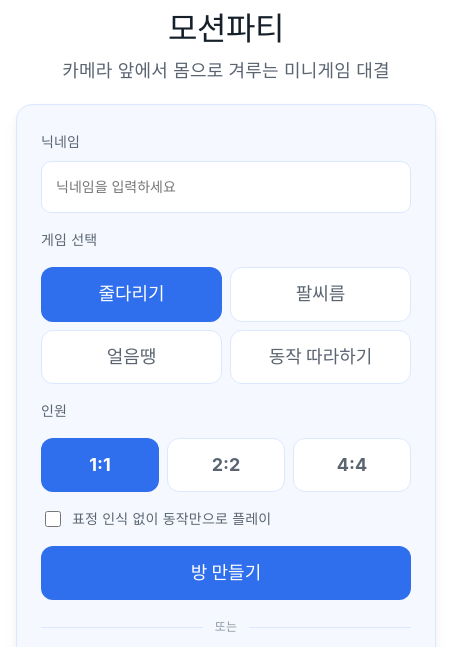
Scenario: Lobby: misc › only offers the motion-only toggle for tug-style games, and persists it
Click the checkbox at (53, 519), box [45,511,61,527]
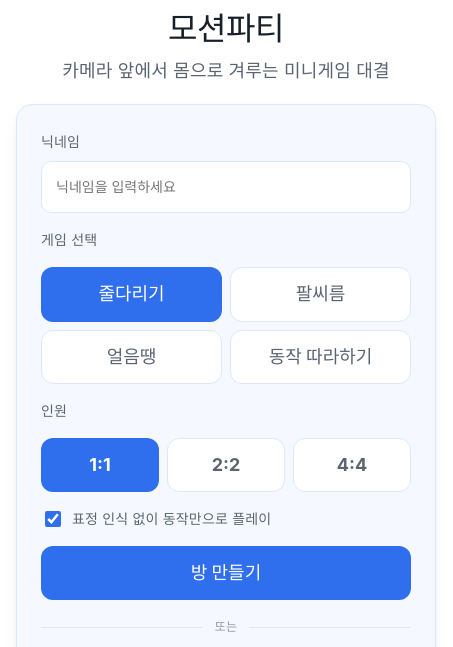
Click the radio button labelled "동작 따라하기" at (320, 357), box [230,330,411,384]
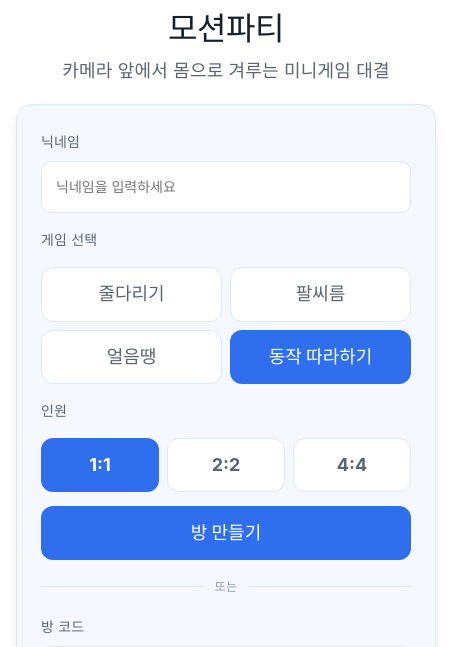
Check: the checkbox is gone
